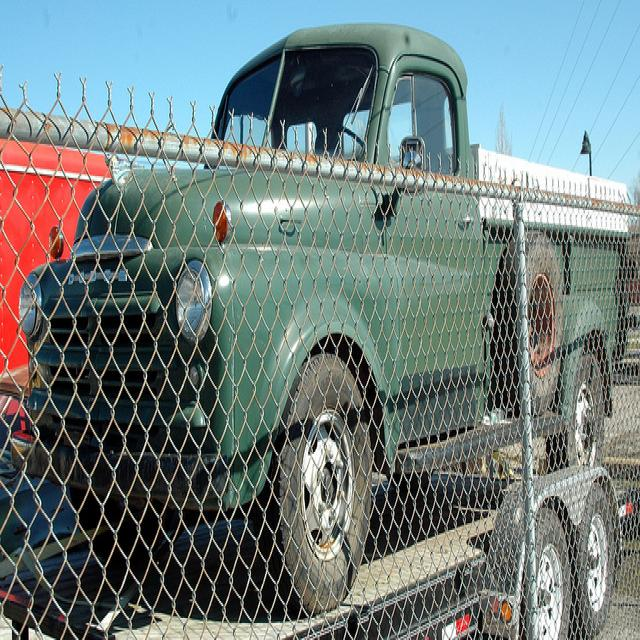Vehicle: (16, 24, 629, 582)
